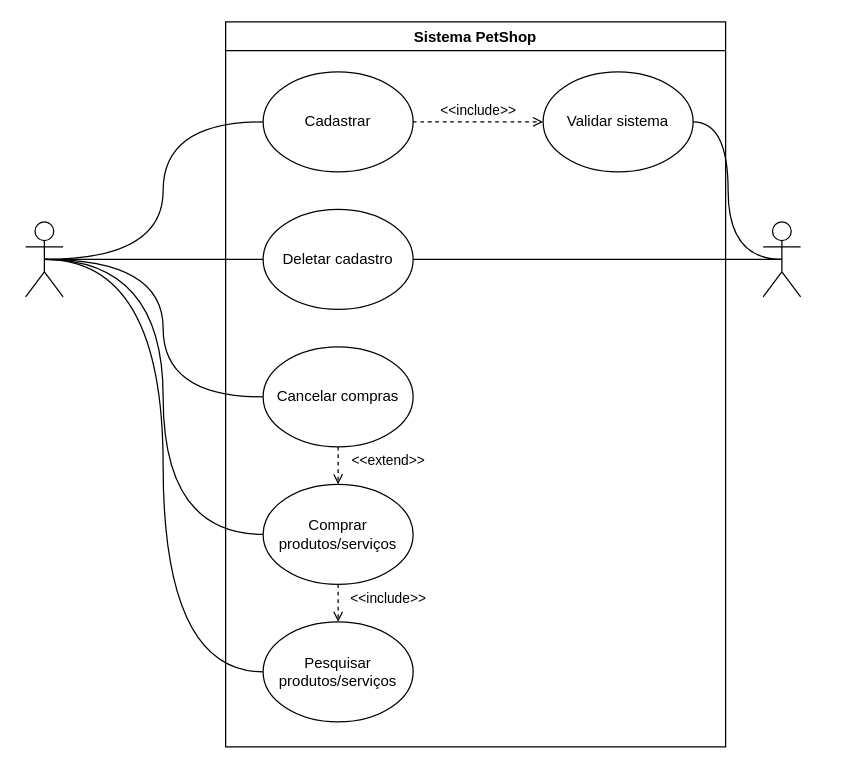
This 850x769 diagram has some shape labels left out. The centre of each missing label's shape, as x and y in pixels:
"Administrador" belongs at (781,259).
"Cliente" belongs at (43,259).
